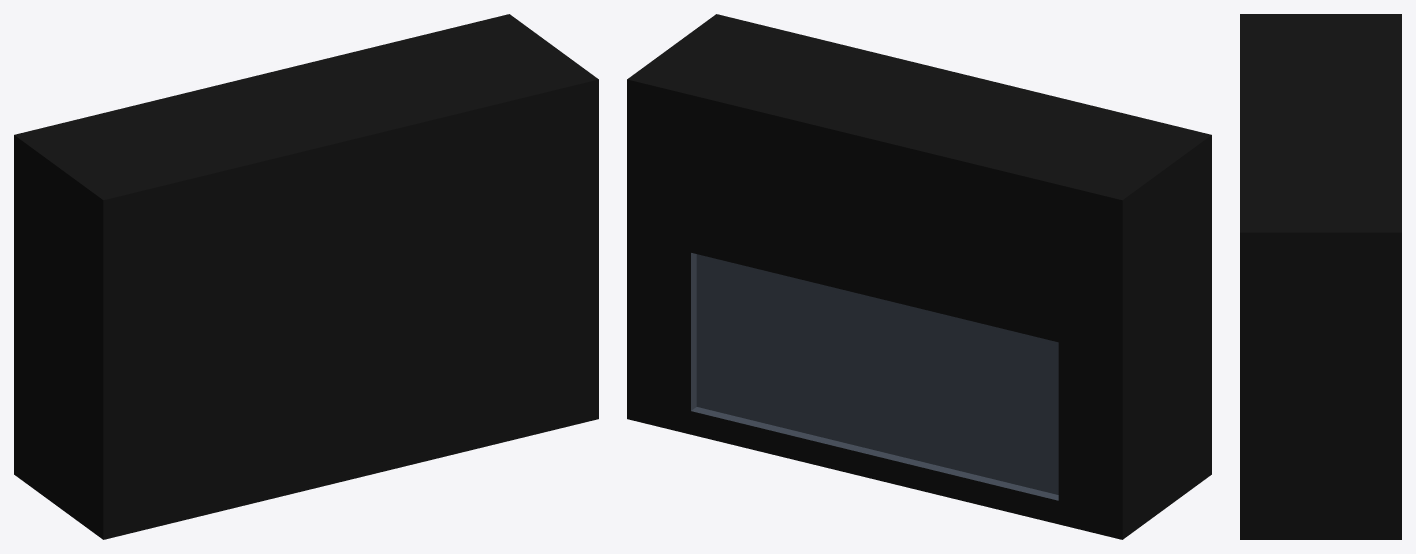
File: ScoreDisplay.fbx
3 views of the same model, side by side, from view 1: azimuth 30°, elevation 25°; view 2: azimuth 150°, elevation 25°; view 3: azimuth 270°, elevation 25° (orthographic). The views are drawn at different scales.
Visible parts, largest first — view 1: ScoreDisplay; view 2: ScoreDisplay; view 3: ScoreDisplay.
Boxes of the visible parts, bbox=[...] form: ScoreDisplay: bbox=[14, 14, 598, 539]; ScoreDisplay: bbox=[627, 14, 1211, 539]; ScoreDisplay: bbox=[1240, 14, 1401, 539].
Size of the model in its own units: 32 by 20.96 by 10.
